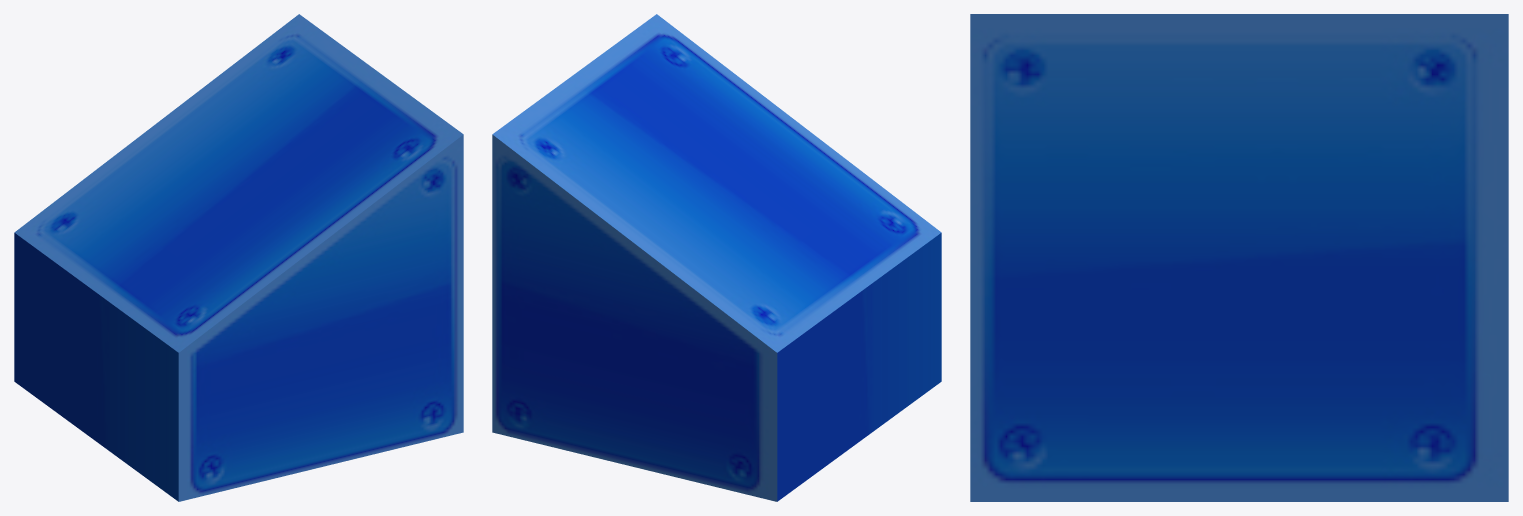
Rendered from slantedBlock1.FBX.
3 renders of one model, left to right at view 1: azimuth 30°, elevation 25°; view 2: azimuth 150°, elevation 25°; view 3: azimuth 270°, elevation 25°, orthographic. The views are drawn at different scales.
Parts seen in each view (by area): view 1: slantedBlock1; view 2: slantedBlock1; view 3: slantedBlock1.
Boxes of the visible parts, box(x1,y1,x2,y2) form: slantedBlock1: box(14, 14, 463, 501); slantedBlock1: box(492, 14, 941, 501); slantedBlock1: box(970, 14, 1508, 501).
Size of the model in its own units: 39.37 by 39.37 by 39.37.
Materials: 1 (1 with a texture image).
